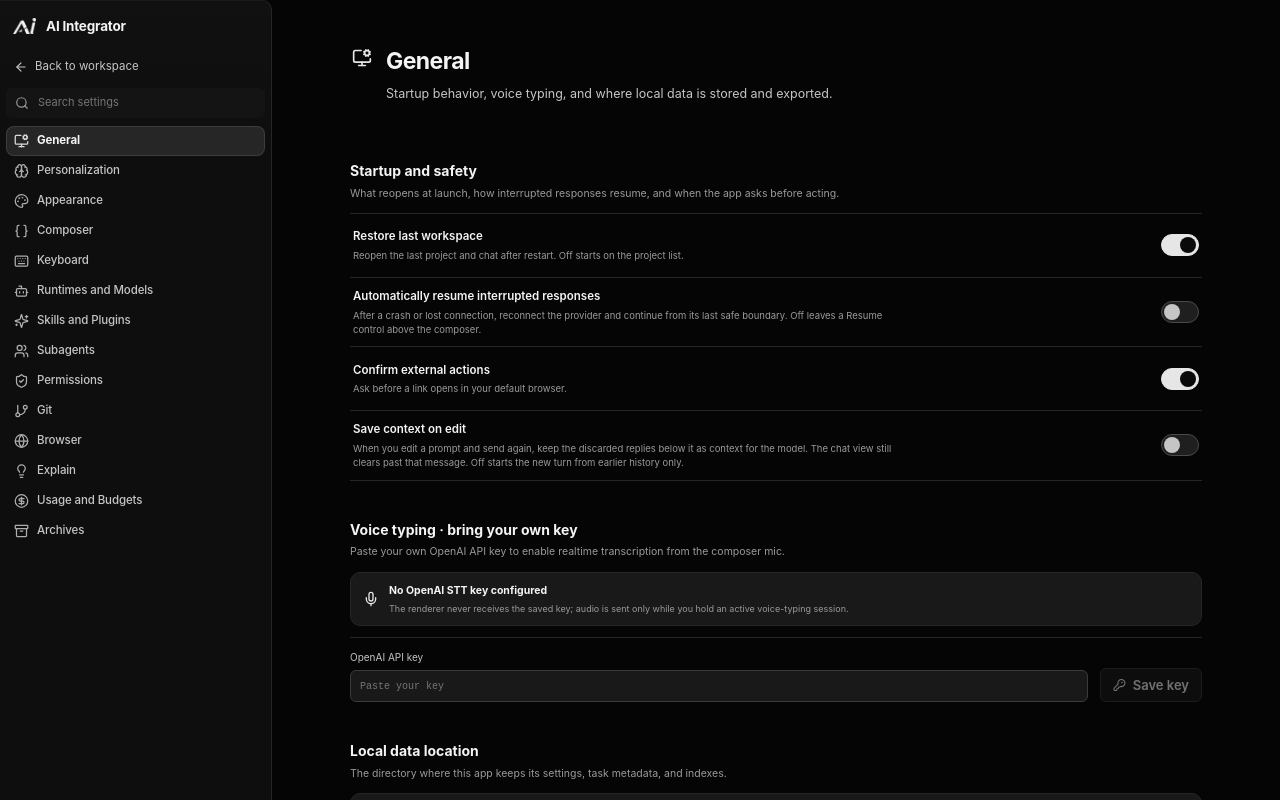
Test: Explain settings › announces each slider's meaning rather than its raw index
The width and height of the screenshot is (1280, 800).
Click the button "Explain": (136, 471) [6,456,265,486]
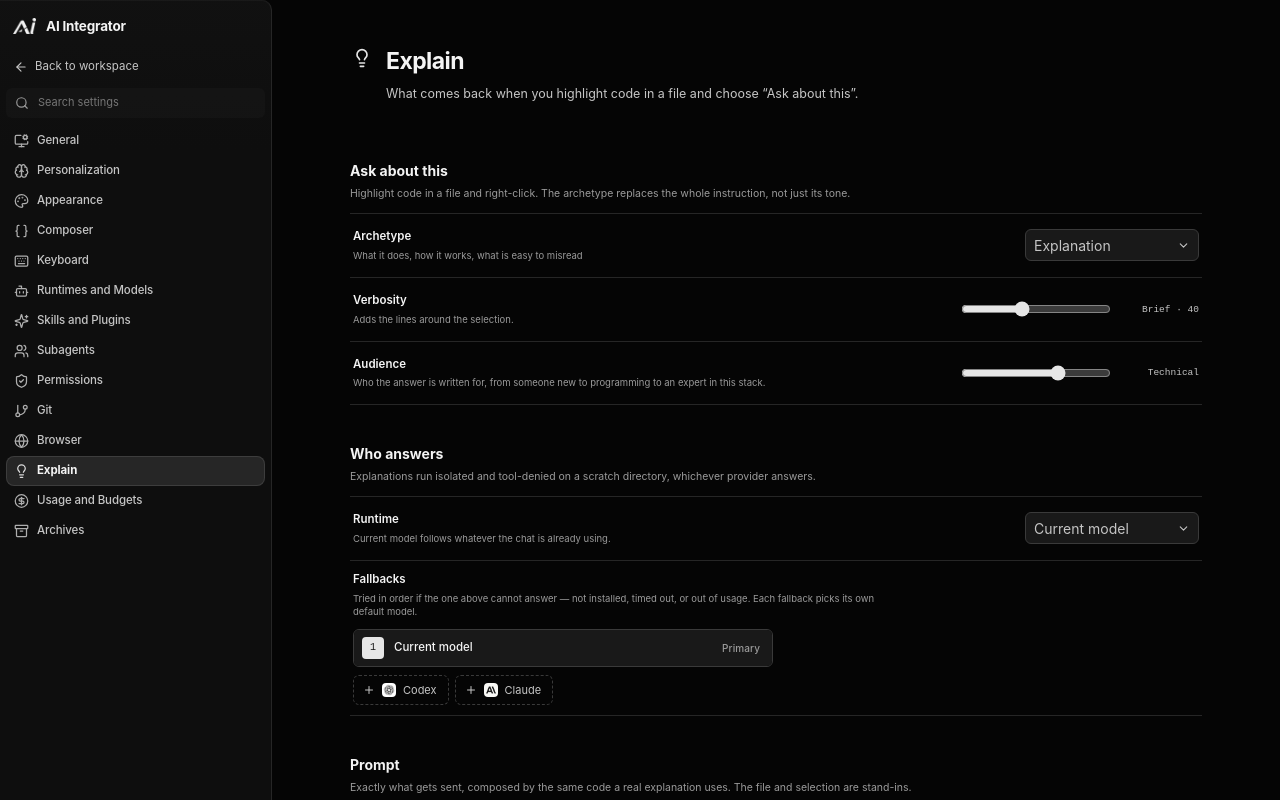
Now the heading "Explain" is shown, box [386,47,464,75]
